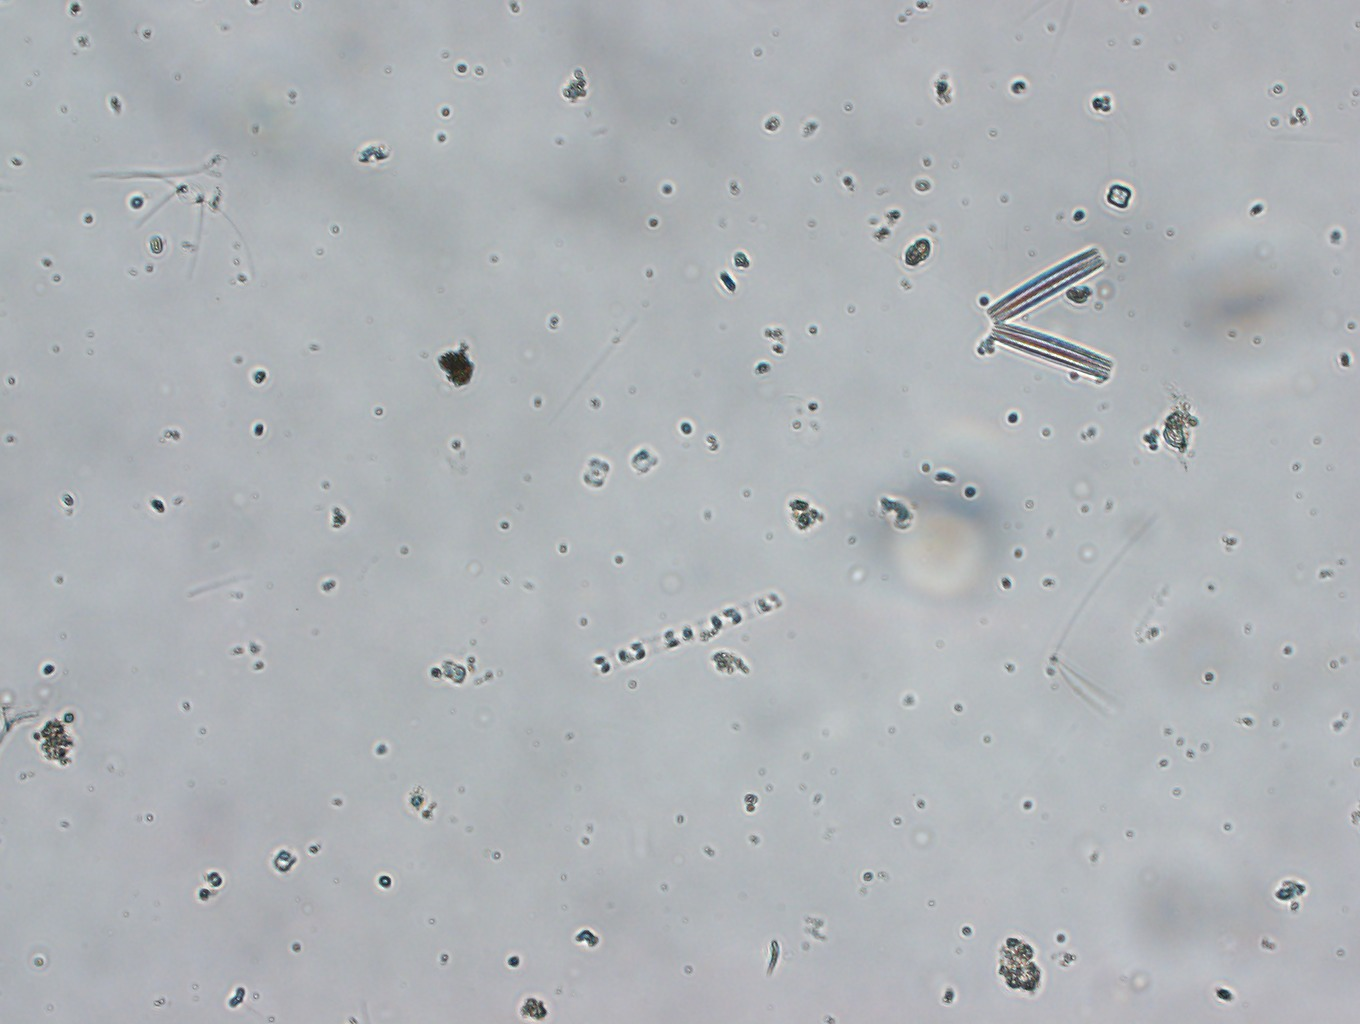skeletonema: (577, 577, 817, 698)
thalassionema nitzschioides: (977, 248, 1130, 397)
